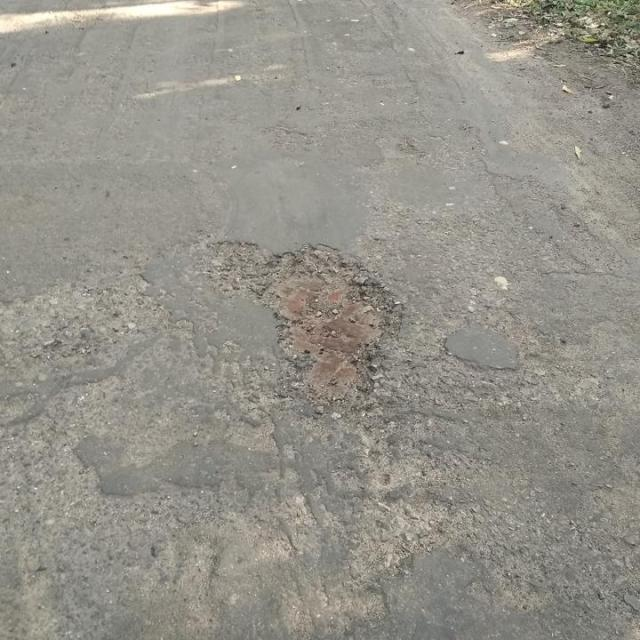pothole: (201, 236, 405, 412)
